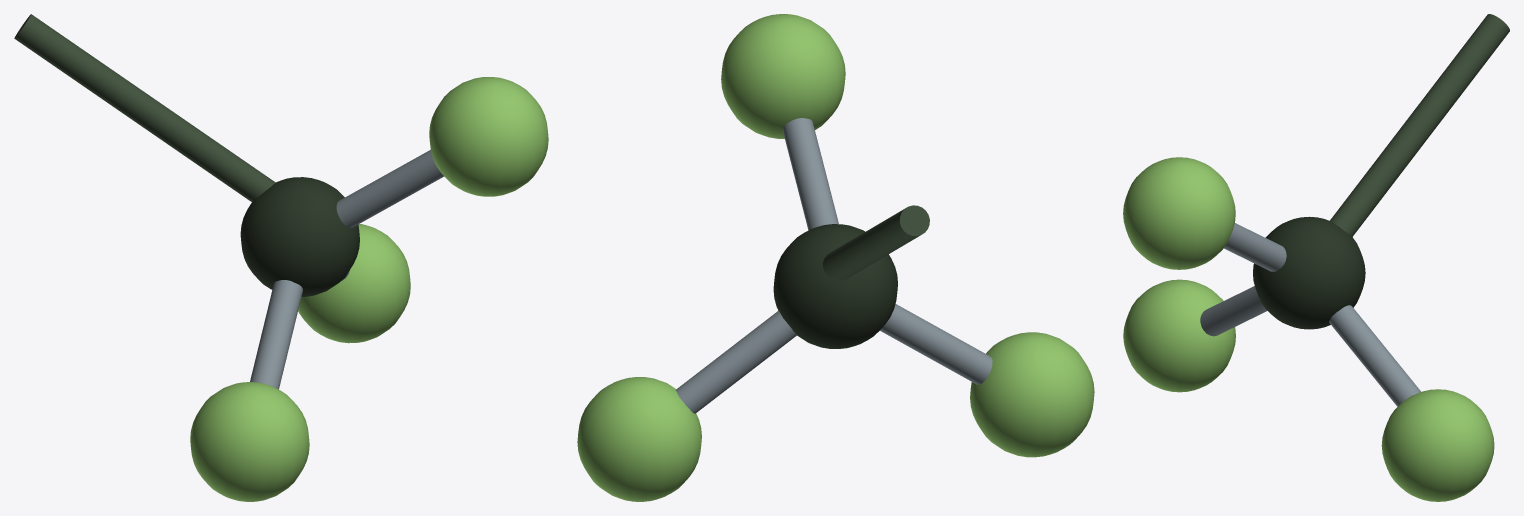
Rendered from flourCierre.fbx.
3 renders of one model, left to right at view 1: azimuth 30°, elevation 25°; view 2: azimuth 150°, elevation 25°; view 3: azimuth 270°, elevation 25°, orthographic. The views are drawn at different scales.
Visible parts, largest first — view 1: monomeroCierre_enlaceHidrogeno11; view 2: monomeroCierre_enlaceHidrogeno11; view 3: monomeroCierre_enlaceHidrogeno11.
Part boxes in pixels (x1,y1,x2,y2): monomeroCierre_enlaceHidrogeno11: (14, 14, 548, 501); monomeroCierre_enlaceHidrogeno11: (577, 14, 1094, 501); monomeroCierre_enlaceHidrogeno11: (1123, 14, 1509, 501).
Size of the model in its own units: 1.04 by 1.03 by 1.04.
